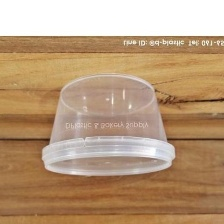plastic_box: (36, 70, 180, 183)
